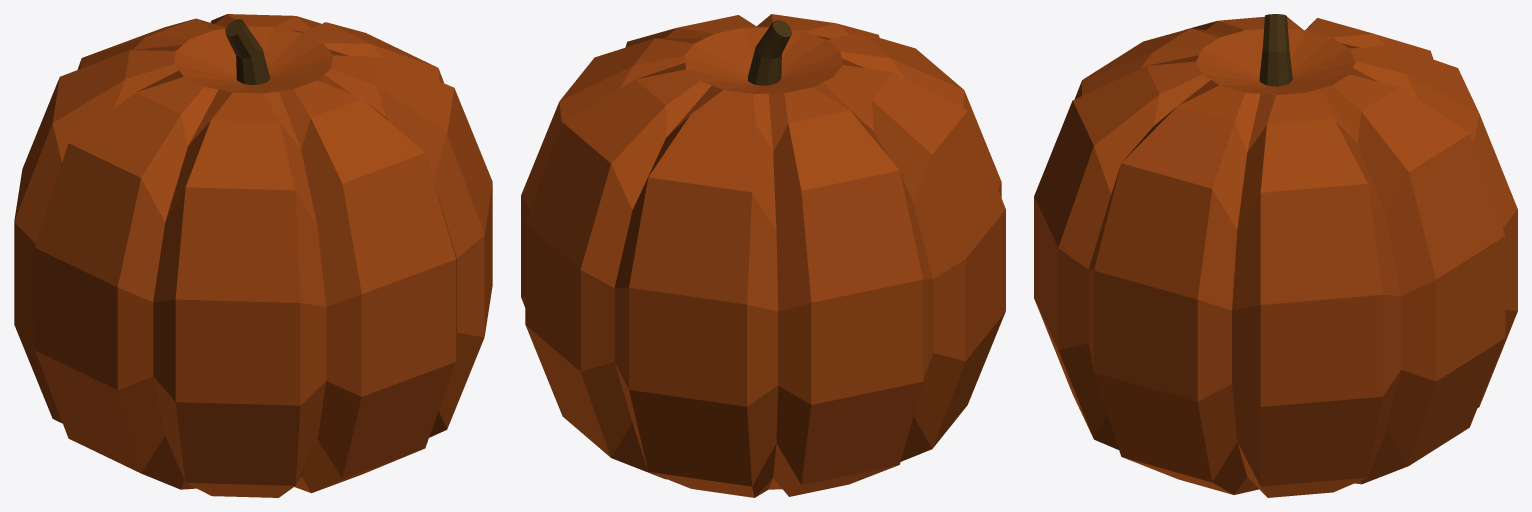
The model's file is Pumpkin.fbx.
The picture shows the model from 3 angles, left to right: view 1: azimuth 30°, elevation 25°; view 2: azimuth 150°, elevation 25°; view 3: azimuth 270°, elevation 25°; orthographic projection.
Parts seen in each view (by area): view 1: Sphere.005; view 2: Sphere.005; view 3: Sphere.005.
Part boxes in pixels (x1,y1,x2,y2): Sphere.005: (14,14,492,497); Sphere.005: (521,14,1005,497); Sphere.005: (1034,14,1517,497).
Size of the model in its own units: 46.85 by 47.66 by 46.85.
